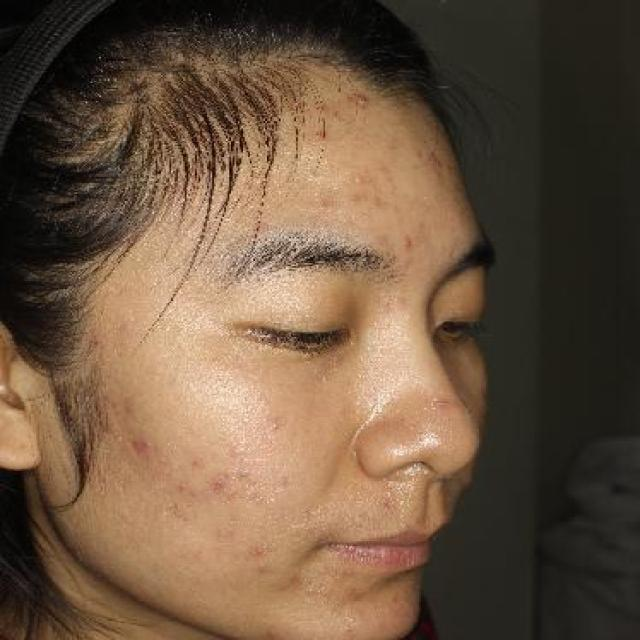dark spot: (204, 474, 231, 503), (373, 496, 400, 522)
pustules: (340, 91, 374, 117), (402, 229, 424, 251), (231, 466, 252, 482)
